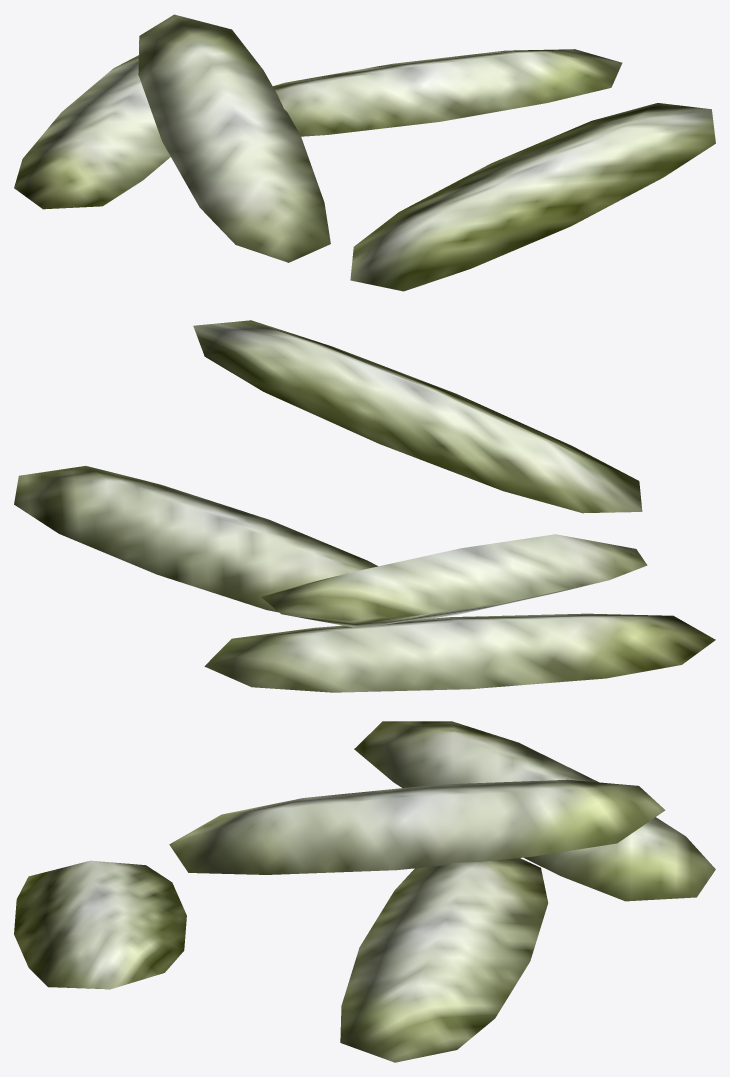
Rendered from KM_SEEDS_05.glb.
The picture shows the model from 3 angles, top to bottom: view 1: azimuth 30°, elevation 25°; view 2: azimuth 150°, elevation 25°; view 3: azimuth 270°, elevation 25°; orthographic projection. The views are drawn at different scales.
Parts seen in each view (by area): view 1: Mesh; view 2: Mesh; view 3: Mesh.
Part boxes in pixels (box(x1,y1,x2,y2)): Mesh: box(14, 14, 715, 291); Mesh: box(14, 320, 715, 692); Mesh: box(14, 721, 715, 1062).
Bounding box in the file's own units: 0.3483 × 0.0488 × 0.3026.
1 material, 1 textured.
